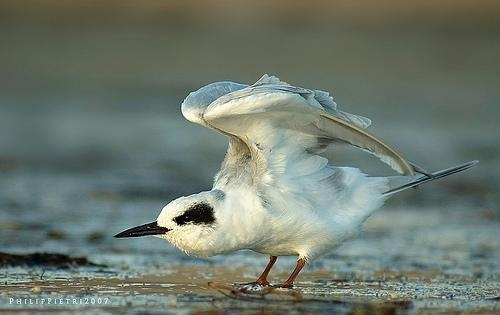bird: (111, 72, 482, 292)
